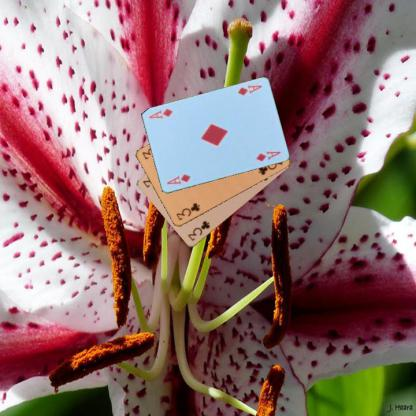3c: (185, 218, 211, 242), (173, 200, 201, 222)
Ad: (235, 83, 263, 97), (164, 172, 191, 186)
